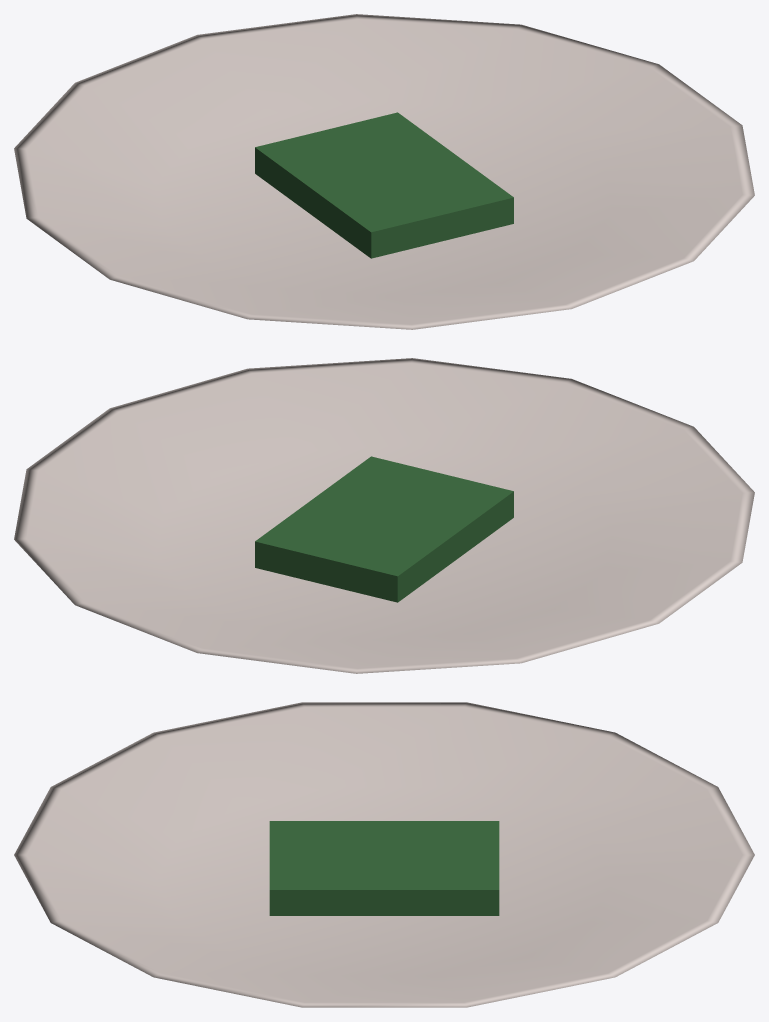
The model's file is Sponge and dish.fbx.
3 renders of one model, top to bottom at view 1: azimuth 30°, elevation 25°; view 2: azimuth 150°, elevation 25°; view 3: azimuth 270°, elevation 25°, orthographic.
Visible parts, largest first — view 1: Dish, Sponge; view 2: Dish, Sponge; view 3: Dish, Sponge.
Boxes of the visible parts, bbox=[...] form: Dish: bbox=[14, 14, 754, 329]; Sponge: bbox=[255, 112, 513, 258]; Dish: bbox=[14, 358, 754, 673]; Sponge: bbox=[255, 456, 513, 602]; Dish: bbox=[14, 702, 754, 1007]; Sponge: bbox=[269, 821, 499, 915].
Size of the model in its own units: 49.77 by 4.71 by 51.05.
